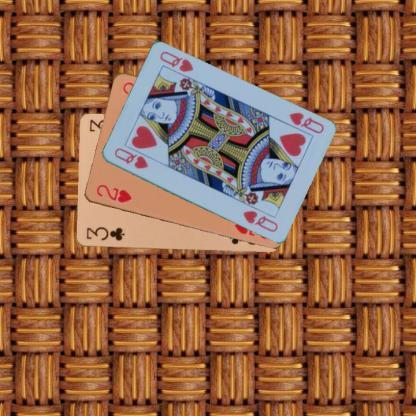2h: (93, 182, 132, 205)
3c: (83, 224, 126, 242)
Qh: (285, 110, 325, 135), (111, 145, 149, 170)
